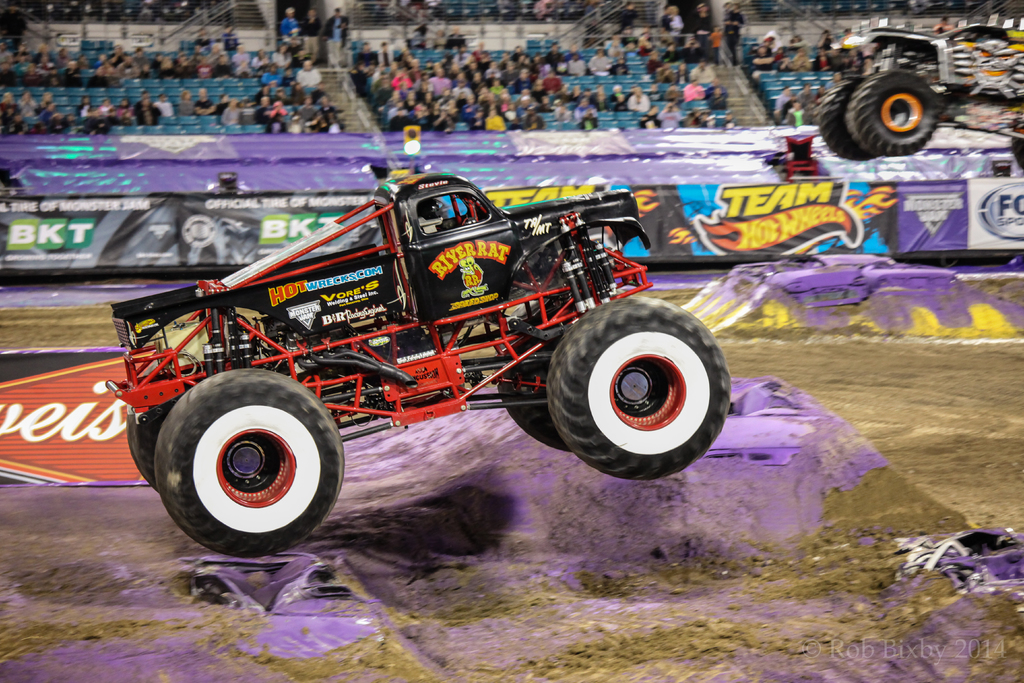Car: (124, 165, 736, 558), (817, 13, 1023, 172)
